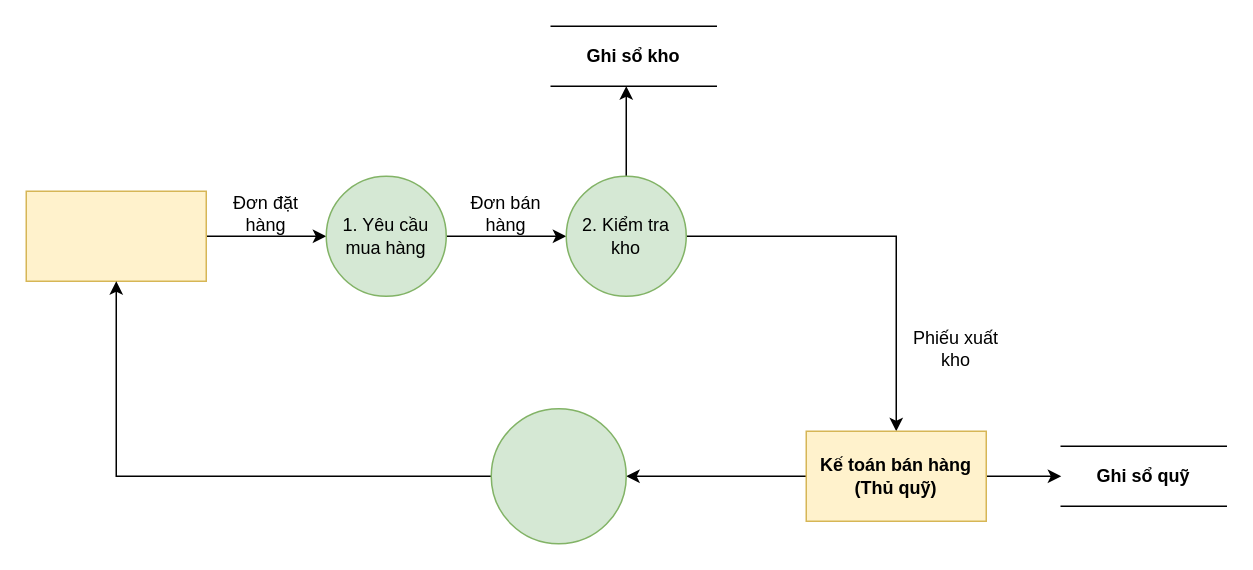
Image size: 1253x570. Some labels were removed from this diagram. The shapes that lost their labels are listed below. From the top down, each one's centre as x and y in pixels, then its label:
the point at 115,235: Khách hàng
the point at 558,475: 3. Lập hóa đơn hoặc hóa đơn kiêm phiếu thu
